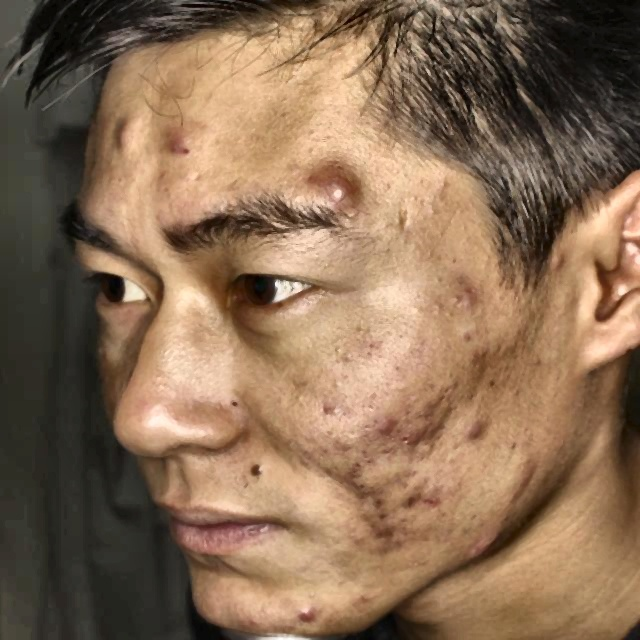papule: (289, 163, 394, 221), (105, 112, 156, 171), (413, 384, 475, 424), (456, 347, 517, 386), (322, 462, 383, 495), (514, 464, 568, 492), (383, 485, 431, 512), (360, 513, 405, 539), (156, 129, 202, 154), (289, 600, 331, 627), (396, 425, 437, 452), (363, 411, 413, 433), (417, 485, 455, 513), (462, 420, 503, 445), (481, 529, 521, 551), (345, 592, 384, 614), (366, 493, 398, 518), (238, 612, 268, 636), (546, 249, 572, 276), (454, 278, 481, 303), (318, 399, 347, 421)
